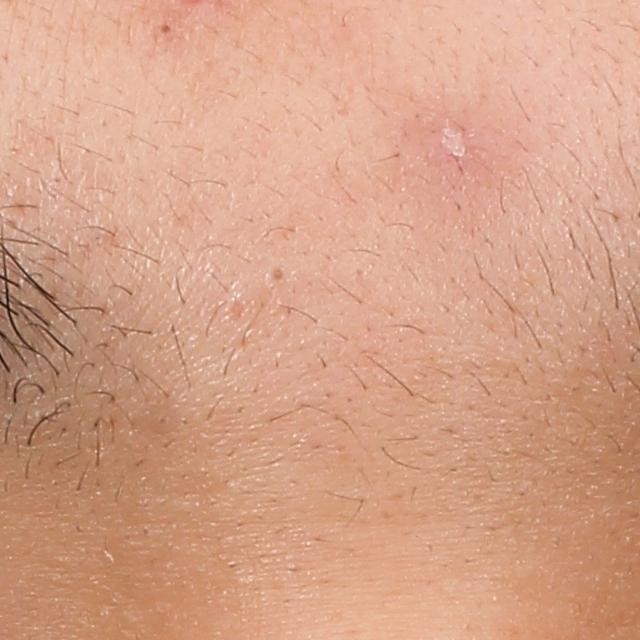comedo: (260, 262, 289, 290), (158, 21, 175, 35)
